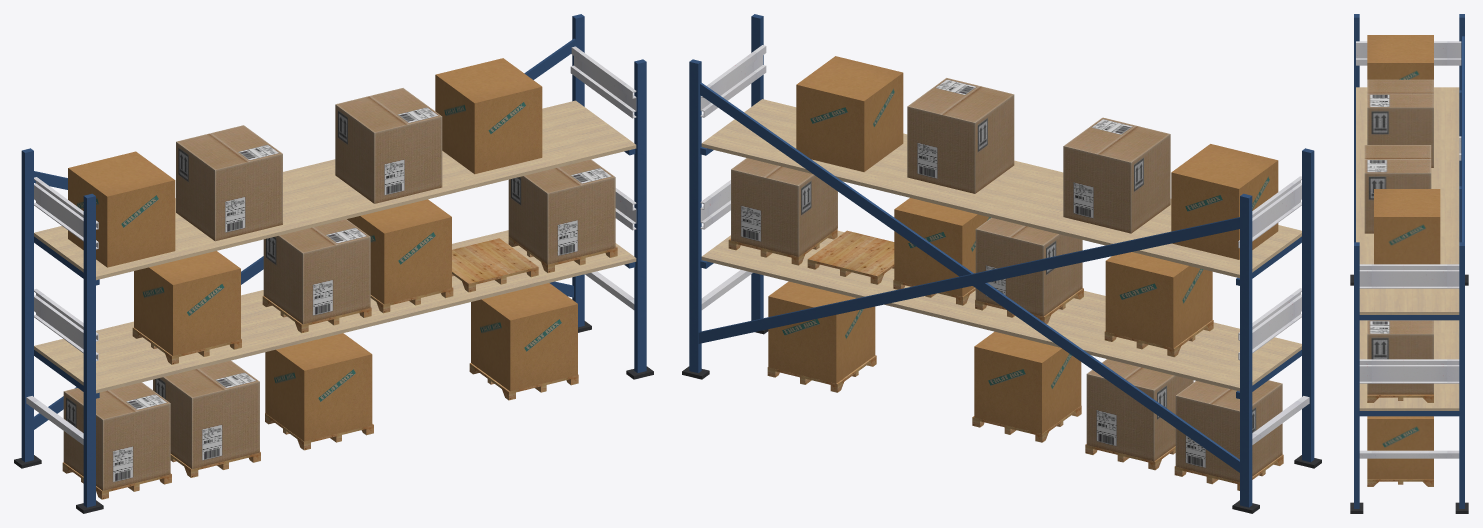
File: BigShelves04Group3.glb
3 views of the same model, side by side, from view 1: azimuth 30°, elevation 25°; view 2: azimuth 150°, elevation 25°; view 3: azimuth 270°, elevation 25° (orthographic). The views are drawn at different scales.
Parts seen in each view (by area): view 1: Cardboard_box01, Cardboard_box05, BigShelves04, BigShelvesWoodBox; view 2: BigShelves04, Cardboard_box01, Cardboard_box05, BigShelvesWoodBox; view 3: BigShelves04, Cardboard_box05, Cardboard_box01, BigShelvesWoodBox.
Part boxes in pixels (box(x1,y1,x2,y2)): Cardboard_box01: box(63, 88, 615, 490); Cardboard_box05: box(68, 58, 577, 441); BigShelves04: box(14, 14, 653, 513); BigShelvesWoodBox: box(62, 236, 617, 499); BigShelves04: box(682, 14, 1321, 513); Cardboard_box01: box(731, 78, 1282, 482); Cardboard_box05: box(768, 56, 1278, 433); BigShelvesWoodBox: box(728, 229, 1283, 490); BigShelves04: box(1350, 14, 1468, 513); Cardboard_box05: box(1367, 35, 1440, 479); Cardboard_box01: box(1364, 79, 1433, 394); BigShelvesWoodBox: box(1367, 394, 1433, 486).
Bounding box in the file's own units: 8.57 × 4.49 × 1.81.
7 materials, 7 textured.
